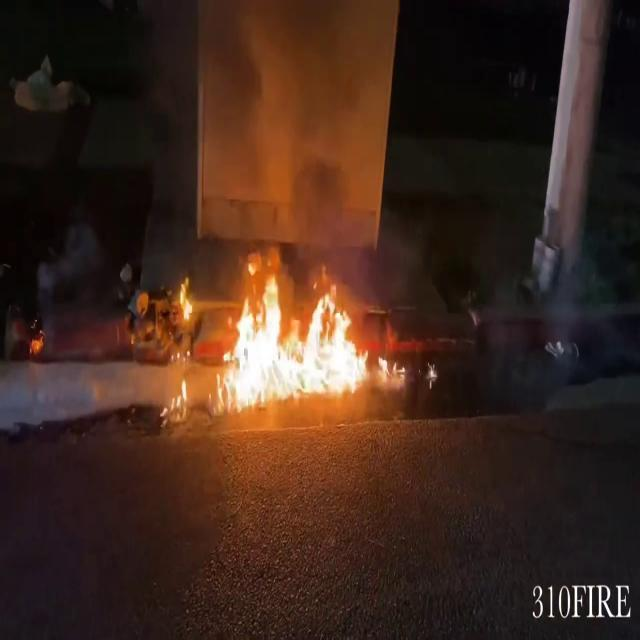Fire: (211, 242, 385, 410), (174, 270, 199, 326)
Smoke: (103, 0, 409, 226)
